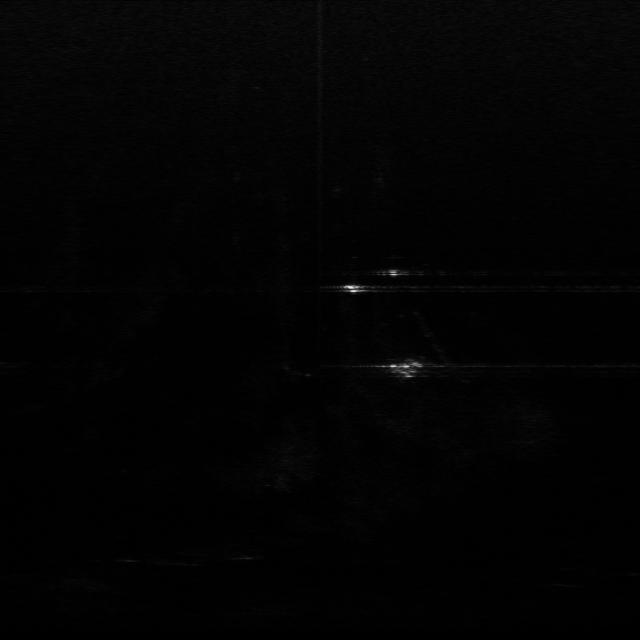rov: (388, 358, 427, 382)
